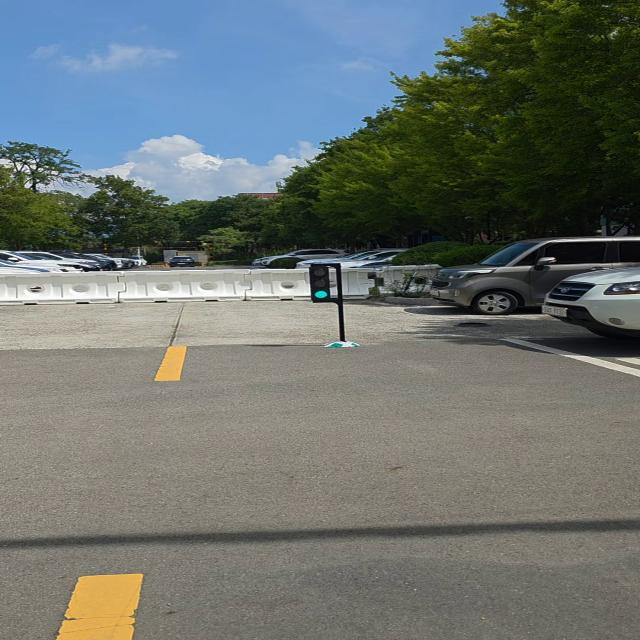green: (305, 263, 338, 304)
